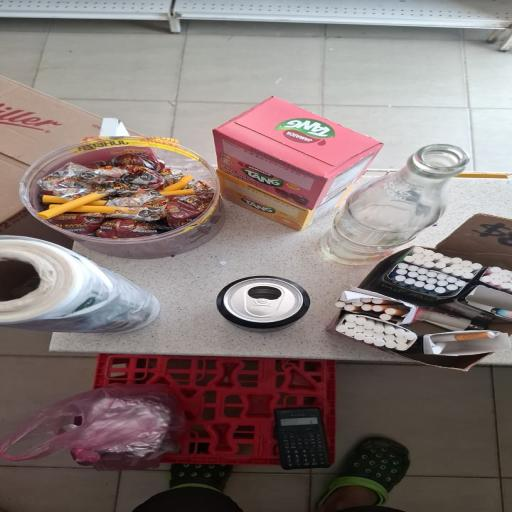LATA: (210, 269, 321, 342)
